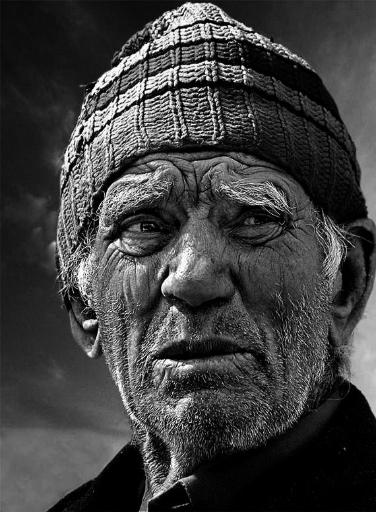left_eye: (224, 204, 288, 237)
left_lip_corner: (234, 336, 257, 365)
right_eye: (115, 214, 171, 240)
right_lip_corner: (145, 342, 168, 371)
